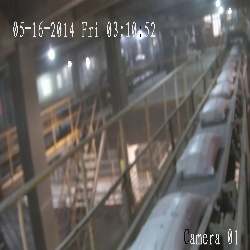cementbag: (130, 193, 207, 250), (176, 130, 220, 177), (199, 97, 228, 122), (210, 82, 234, 97), (216, 70, 236, 82)
